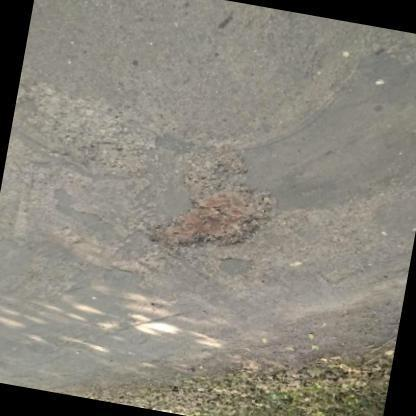pothole: (220, 189, 390, 291), (22, 76, 156, 182), (152, 146, 275, 254), (34, 211, 148, 282)
